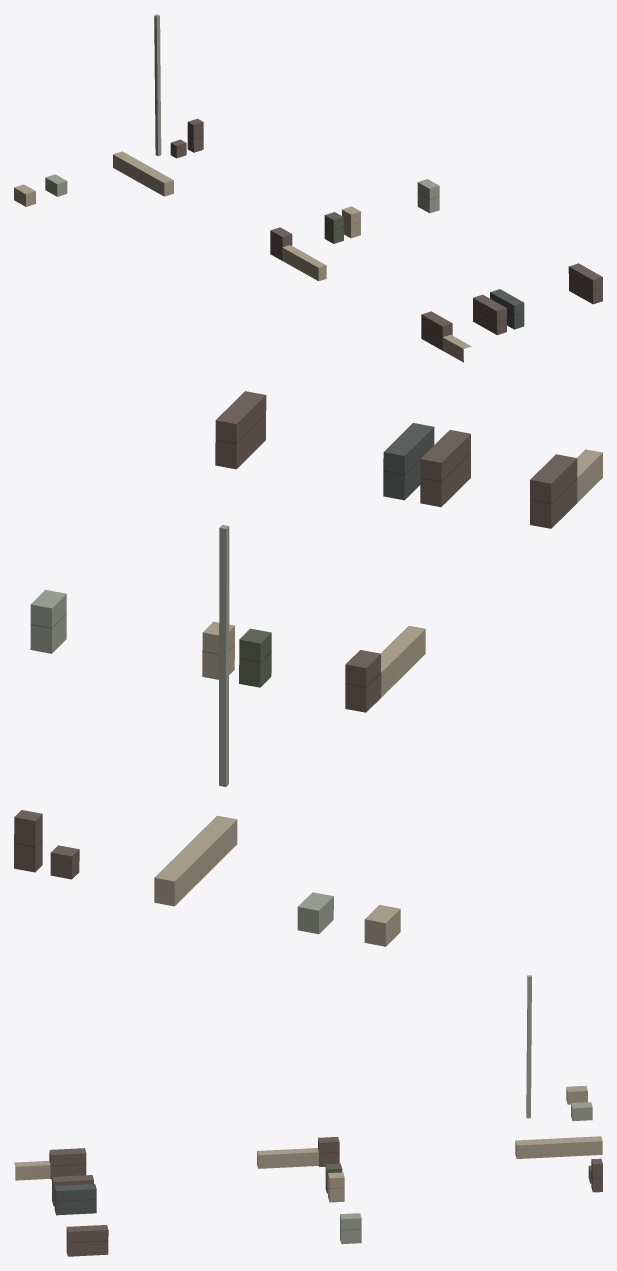
The model's file is terminal-29---120_-20.glb.
3 renders of one model, top to bottom at view 1: azimuth 30°, elevation 25°; view 2: azimuth 150°, elevation 25°; view 3: azimuth 270°, elevation 25°, orthographic. The views are drawn at different scales.
Visible parts, largest first — view 1: measured-industrial; view 2: measured-industrial; view 3: measured-industrial.
Part boxes in pixels (bbox=[...]): measured-industrial: bbox=[14, 14, 602, 362]; measured-industrial: bbox=[14, 391, 602, 946]; measured-industrial: bbox=[14, 975, 602, 1256].
Size of the model in its own units: 76.07 by 38.75 by 116.
